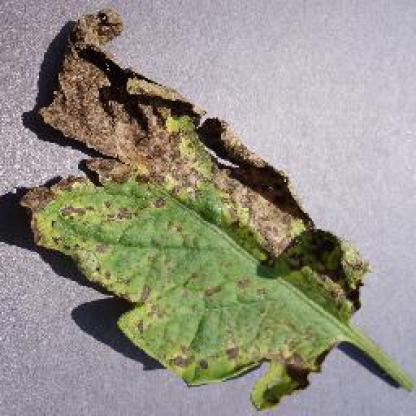bad leaf: (26, 10, 390, 404)
